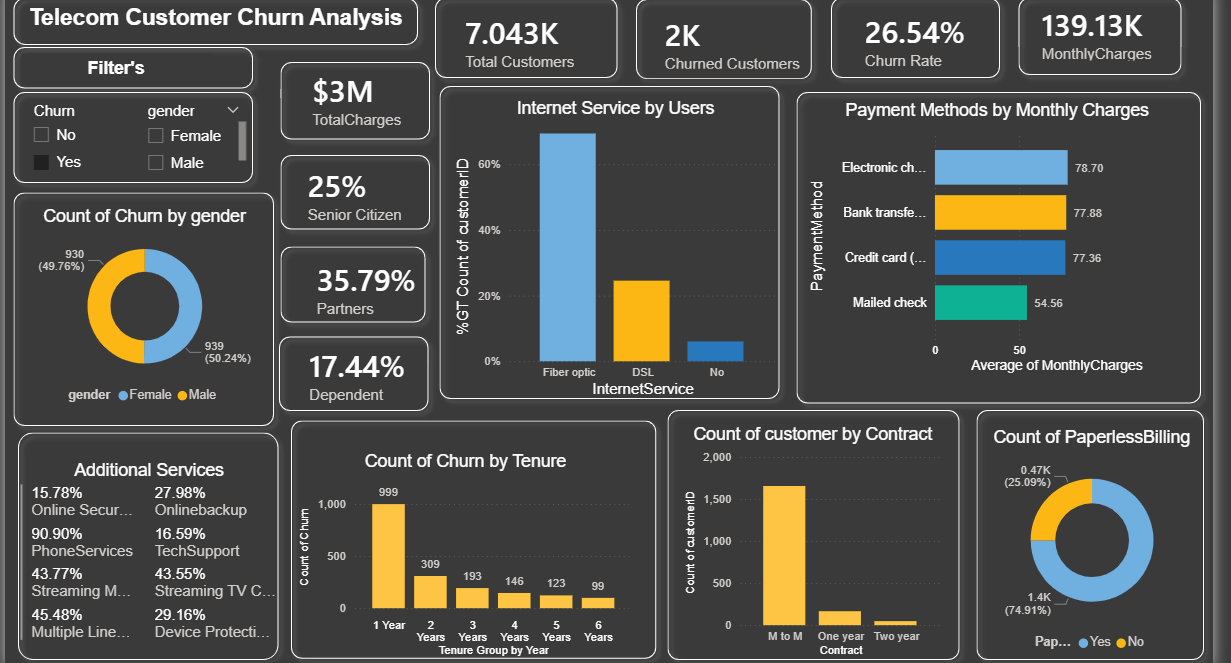

What the dashboard file says about the page in this screenshot:
{"tool":"powerbi","page":{"name":"Page 4","canvas":[1280,720],"ordinal":0},"visuals":[{"type":"cardVisual","fields":{"Data":["Sum(Sheet1.MonthlyCharges)"]},"box":[1070.5,0,181.3,93.8],"z":0},{"type":"donutChart","fields":{"Category":["Sheet1.gender"],"Y":["CountNonNull(Sheet1.Churn)"]},"box":[0,230.6,295.9,219.5],"z":1000},{"type":"donutChart","title":"Count of PaperlessBilling","fields":{"Y":["CountNonNull(Sheet1.customerID)"],"Category":["Sheet1.PaperlessBilling"]},"box":[1035.5,464.5,233.8,248.1],"z":2000},{"type":"barChart","title":"Payment Methods by Monthly Charges","fields":{"Category":["Sheet1.PaymentMethod"],"Y":["Avg(Sheet1.MonthlyCharges)"],"Series":["Sheet1.PaymentMethod"]},"box":[847.8,117.7,408.8,294.3],"z":3000},{"type":"cardVisual","fields":{"Data":["Sheet1.Churn Rate"]},"box":[882.8,6.4,182.9,95.4],"z":4000},{"type":"columnChart","title":"Internet Service by Users","fields":{"Category":["Sheet1.InternetService"],"Y":["CountNonNull(Sheet1.customerID)"],"Series":["Sheet1.InternetService"]},"box":[472.4,116.1,349.9,321.3],"z":5000},{"type":"cardVisual","fields":{"Data":["Sheet1.Total Customers"]},"box":[458.1,4.8,194.1,98.6],"z":6000},{"type":"cardVisual","fields":{"Data":["Sheet1.Churned Customers"]},"box":[669.6,9.5,213.1,93.8],"z":7000},{"type":"columnChart","title":"Count of Churn by Tenure","fields":{"Category":["Sheet1.Tenure Group by Year"],"Y":["CountNonNull(Sheet1.Churn)"]},"box":[307,489.9,362.7,222.7],"z":8000},{"type":"shape","box":[660.2,1.5,204.4,103],"z":8500},{"type":"cardVisual","fields":{"Data":["Sum(Sheet1.TotalCharges)"]},"box":[295.9,63.6,168.6,105],"z":9000},{"type":"multiRowCard","title":"Additional Services","fields":{"Values":["Sheet1.Online Security Customers","Sheet1.onlinebackup%","Sheet1.PhoneServices","Sheet1.techsupport1","Sheet1.Streaming Movies Customers","Sheet1.Streaming TV Customers","Sheet1.Multiple Lines Customers","Sheet1.Device Protection Customers"]},"box":[11.1,499.5,283.1,213.1],"z":10000},{"type":"columnChart","title":"Count of customer by Contract","fields":{"Category":["Sheet1.Contract"],"Y":["CountNonNull(Sheet1.customerID)"]},"box":[715.8,461.3,281.5,251.3],"z":11000},{"type":"cardVisual","fields":{"Data":["Sheet1.SeniorCitizen%"]},"box":[291.1,165.4,160.7,101.8],"z":12000},{"type":"cardVisual","fields":{"Data":["Sheet1.Partners"]},"box":[300.6,267.2,171.8,97],"z":13000},{"type":"cardVisual","fields":{"Data":["Sheet1.Dependent"]},"box":[292.2,356.7,166.2,103.1],"z":14000},{"type":"shape","box":[1065.7,0,190.9,100.2],"z":15000},{"type":"shape","box":[866.4,0,197.2,103.4],"z":16000},{"type":"shape","box":[447,0,211.6,103.4],"z":18000},{"type":"shape","box":[283.1,68.4,176.6,100.2],"z":19000},{"type":"shape","box":[283.1,167,176.6,97],"z":20000},{"type":"shape","box":[283.1,264,171.8,98.6],"z":21000},{"type":"shape","box":[281.5,359.5,176.6,97],"z":22000},{"type":"shape","box":[830.3,100.2,447,348.3],"z":23000},{"type":"shape","box":[451.7,93.8,378.6,349.9],"z":24000},{"type":"shape","box":[0,206.8,294.3,265.6],"z":25000},{"type":"shape","box":[0,100.2,272,114.5],"z":26000},{"type":"slicer","fields":{"Values":["Sheet1.Churn"]},"box":[18.2,115.1,122.7,90.9],"z":27000},{"type":"slicer","fields":{"Values":["Sheet1.gender"]},"box":[138.4,114.5,122.5,84.3],"z":28000},{"type":"shape","box":[4.8,461.3,294.3,259.3],"z":29000},{"type":"shape","box":[293.6,449.3,405.4,270.7],"z":30000},{"type":"shape","box":[693.1,436.9,327.7,283.1],"z":31000},{"type":"shape","box":[1020.7,436.9,259.3,283.1],"z":32000},{"type":"shape","box":[0,0,447,68.4],"z":33000},{"type":"textbox","box":[11.1,11.1,424.7,47.7],"z":34000},{"type":"shape","box":[0,52.5,272,62],"z":35000},{"type":"textbox","box":[17.5,68.4,200.4,31.8],"z":36000}]}

Visuals, with their boxes in screenshot pixels (x1, y1, x2, y2):
cardVisual - Sum(Sheet1.MonthlyCharges): bbox=[1006, 0, 1176, 66]
donutChart - Sheet1.gender x CountNonNull(Sheet1.Churn): bbox=[0, 195, 276, 402]
"Count of PaperlessBilling" donutChart: bbox=[973, 415, 1193, 649]
"Payment Methods by Monthly Charges" barChart: bbox=[796, 88, 1181, 366]
cardVisual - Sheet1.Churn Rate: bbox=[829, 0, 1001, 73]
"Internet Service by Users" columnChart: bbox=[442, 87, 772, 390]
cardVisual - Sheet1.Total Customers: bbox=[428, 0, 611, 75]
cardVisual - Sheet1.Churned Customers: bbox=[628, 0, 829, 75]
"Count of Churn by Tenure" columnChart: bbox=[286, 439, 628, 649]
shape: bbox=[619, 0, 812, 76]
cardVisual - Sum(Sheet1.TotalCharges): bbox=[276, 37, 434, 136]
"Additional Services" multiRowCard: bbox=[7, 448, 274, 649]
"Count of customer by Contract" columnChart: bbox=[671, 412, 937, 649]
cardVisual - Sheet1.SeniorCitizen%: bbox=[271, 133, 423, 229]
cardVisual - Sheet1.Partners: bbox=[280, 229, 442, 321]
cardVisual - Sheet1.Dependent: bbox=[272, 314, 429, 411]
shape: bbox=[1001, 0, 1181, 72]
shape: bbox=[813, 0, 999, 75]
shape: bbox=[418, 0, 617, 75]
shape: bbox=[264, 42, 430, 136]
shape: bbox=[264, 135, 430, 226]
shape: bbox=[264, 226, 425, 319]
shape: bbox=[262, 316, 428, 408]
shape: bbox=[779, 72, 1200, 400]
shape: bbox=[422, 66, 779, 396]
shape: bbox=[0, 172, 274, 423]
shape: bbox=[0, 72, 253, 180]
slicer - Sheet1.Churn: bbox=[14, 86, 130, 172]
slicer - Sheet1.gender: bbox=[127, 85, 243, 165]
shape: bbox=[1, 412, 279, 657]
shape: bbox=[273, 401, 655, 656]
shape: bbox=[650, 389, 959, 656]
shape: bbox=[959, 389, 1203, 656]
shape: bbox=[0, 0, 418, 42]
textbox: bbox=[7, 0, 407, 33]
shape: bbox=[0, 27, 253, 85]
textbox: bbox=[13, 42, 202, 72]
